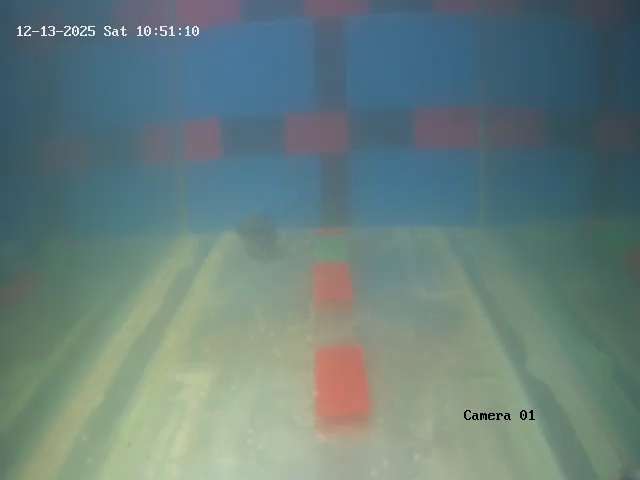fish: (234, 206, 287, 264)
